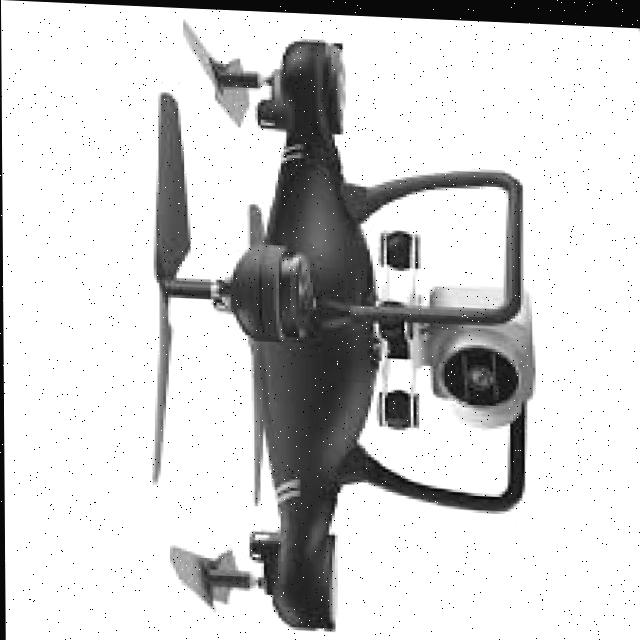drone: (132, 5, 560, 640)
